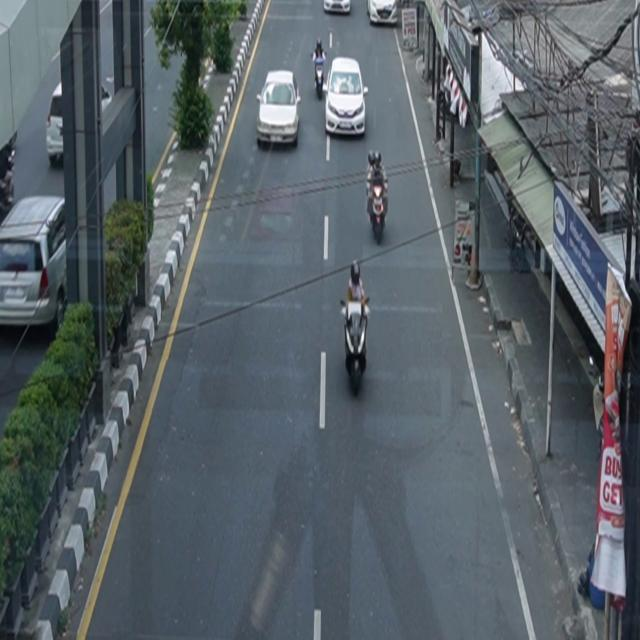car: (1, 194, 68, 332), (47, 80, 112, 167), (256, 70, 302, 148), (325, 58, 369, 138), (367, 1, 398, 26), (324, 1, 352, 15)
